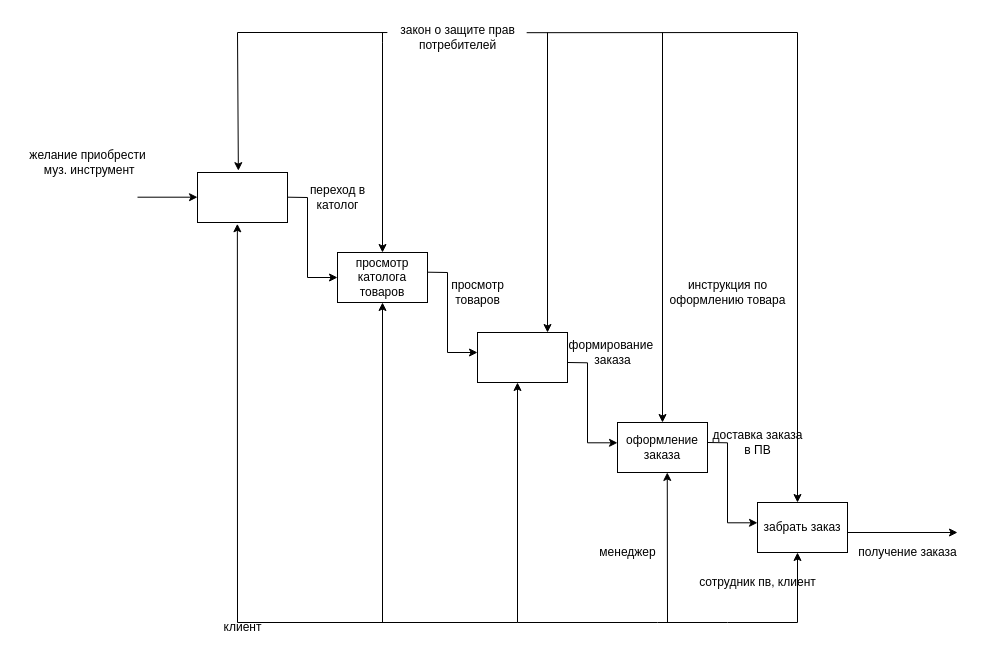
This 984x659 diagram has some shape labels left out. Each missing label, with the box of its shape:
вход в систему: (196, 172, 288, 222)
выбор товара: (476, 332, 568, 382)
